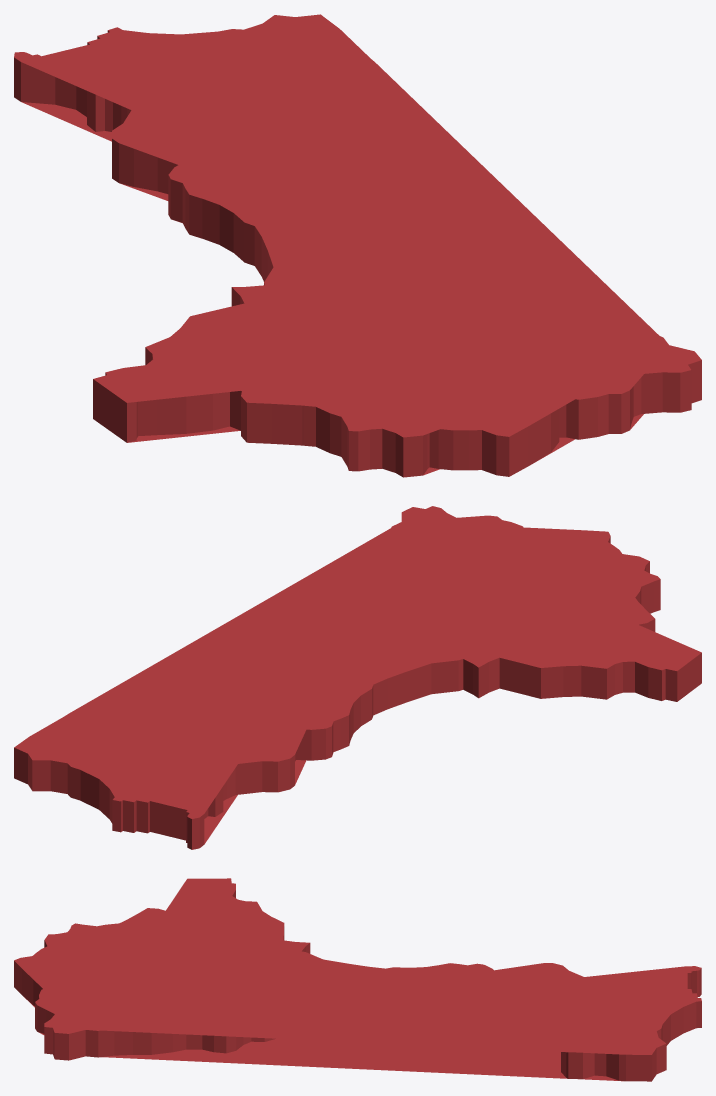
The model's file is westBengal.fbx.
3 renders of one model, top to bottom at view 1: azimuth 30°, elevation 25°; view 2: azimuth 150°, elevation 25°; view 3: azimuth 270°, elevation 25°, orthographic. The views are drawn at different scales.
Parts seen in each view (by area): view 1: West Benngal; view 2: West Benngal; view 3: West Benngal.
Boxes of the visible parts, bbox=[...] form: West Benngal: bbox=[14, 14, 701, 477]; West Benngal: bbox=[14, 506, 701, 849]; West Benngal: bbox=[14, 878, 701, 1081].
Bounding box in the file's own units: 54.78 × 3.85 × 90.26.
